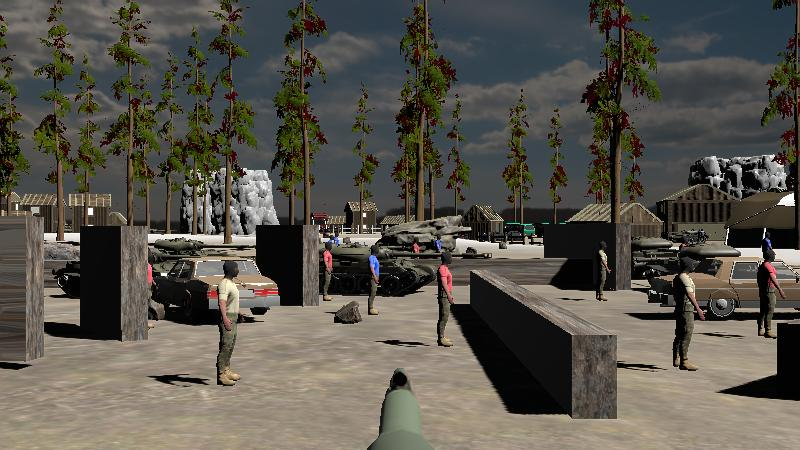House: (658, 183, 740, 244), (564, 201, 663, 246), (21, 192, 69, 232), (68, 192, 112, 230), (344, 200, 379, 234), (1, 191, 21, 216), (324, 215, 346, 234), (107, 210, 129, 226)
Human: (669, 256, 706, 371), (213, 266, 243, 386), (753, 247, 786, 339), (434, 249, 458, 349), (592, 238, 612, 303), (366, 243, 382, 316), (318, 240, 336, 304), (760, 228, 776, 261), (412, 236, 422, 258), (432, 234, 443, 254)
Tank: (311, 244, 471, 298), (636, 242, 747, 289), (45, 249, 81, 301), (146, 235, 209, 263), (668, 226, 712, 245)
car: (643, 255, 800, 319), (149, 254, 281, 323), (503, 221, 536, 241)
